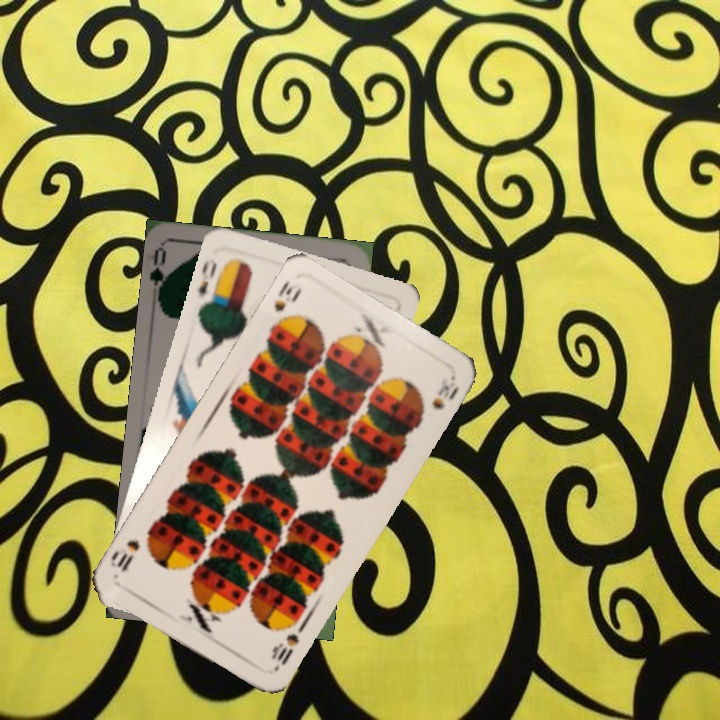EO: (194, 257, 225, 308)
GO: (147, 245, 176, 305)
S10: (267, 276, 305, 330), (267, 629, 302, 674)
